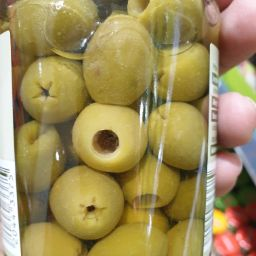Olives: (4, 15, 229, 216), (62, 93, 160, 168), (41, 164, 136, 236), (82, 8, 154, 101), (74, 102, 150, 183), (16, 50, 91, 127), (148, 95, 219, 168), (138, 35, 213, 102), (127, 2, 221, 53), (9, 5, 99, 58), (149, 106, 214, 169), (20, 111, 69, 194), (170, 178, 215, 256), (98, 219, 176, 256), (27, 218, 92, 256)
